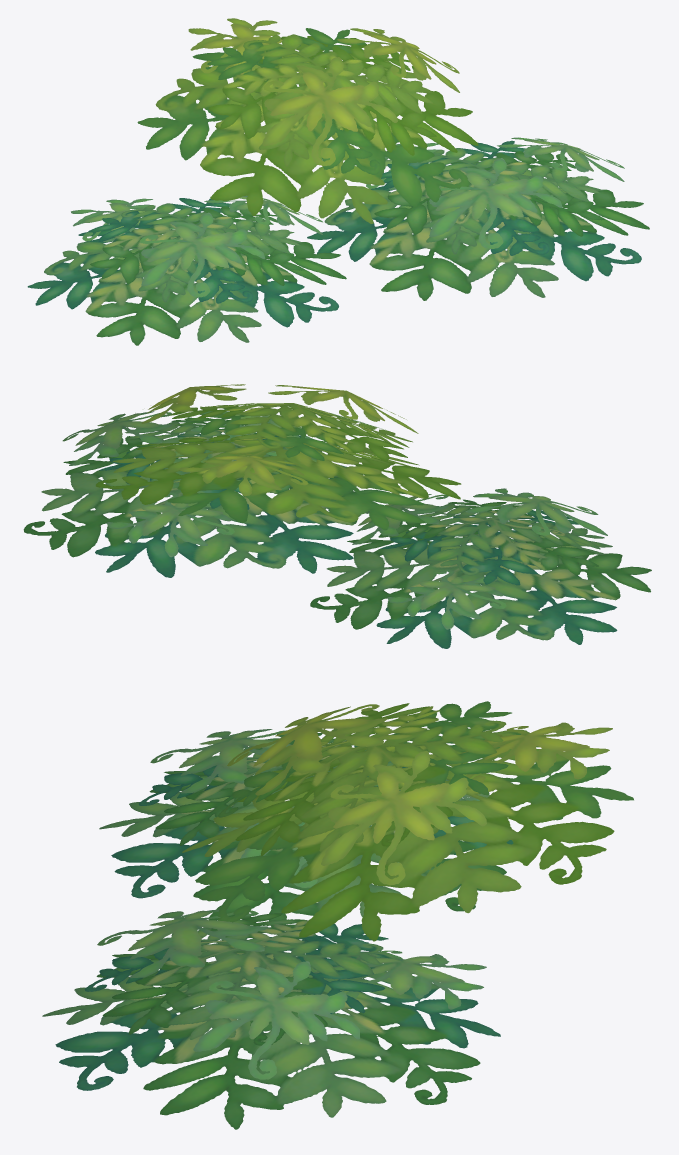
File: Map_05_grass02.FBX
The picture shows the model from 3 angles, top to bottom: view 1: azimuth 30°, elevation 25°; view 2: azimuth 150°, elevation 25°; view 3: azimuth 270°, elevation 25°; orthographic projection. The views are drawn at different scales.
Parts seen in each view (by area): view 1: Map_05_grass02; view 2: Map_05_grass02; view 3: Map_05_grass02.
Part boxes in pixels (x1=…): Map_05_grass02: x1=27, y1=18, x2=649, y2=345; Map_05_grass02: x1=23, y1=384, x2=651, y2=648; Map_05_grass02: x1=42, y1=701, x2=633, y2=1129.
Bounding box in the file's own units: 1183 × 322 × 835.
